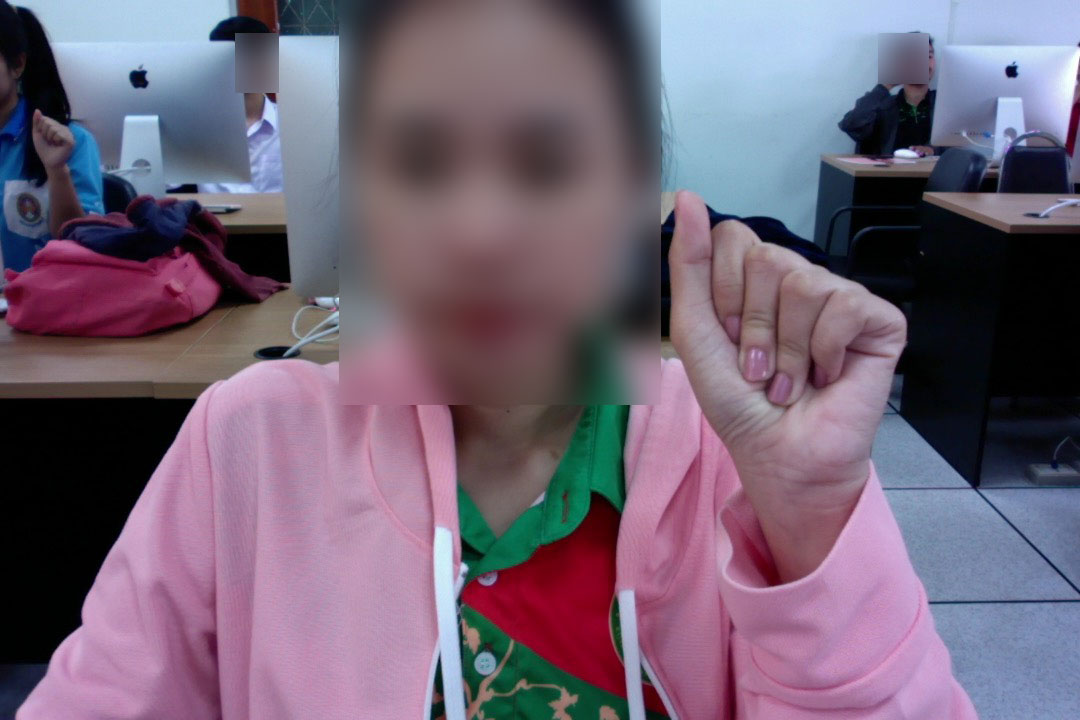or: (660, 181, 918, 519)
